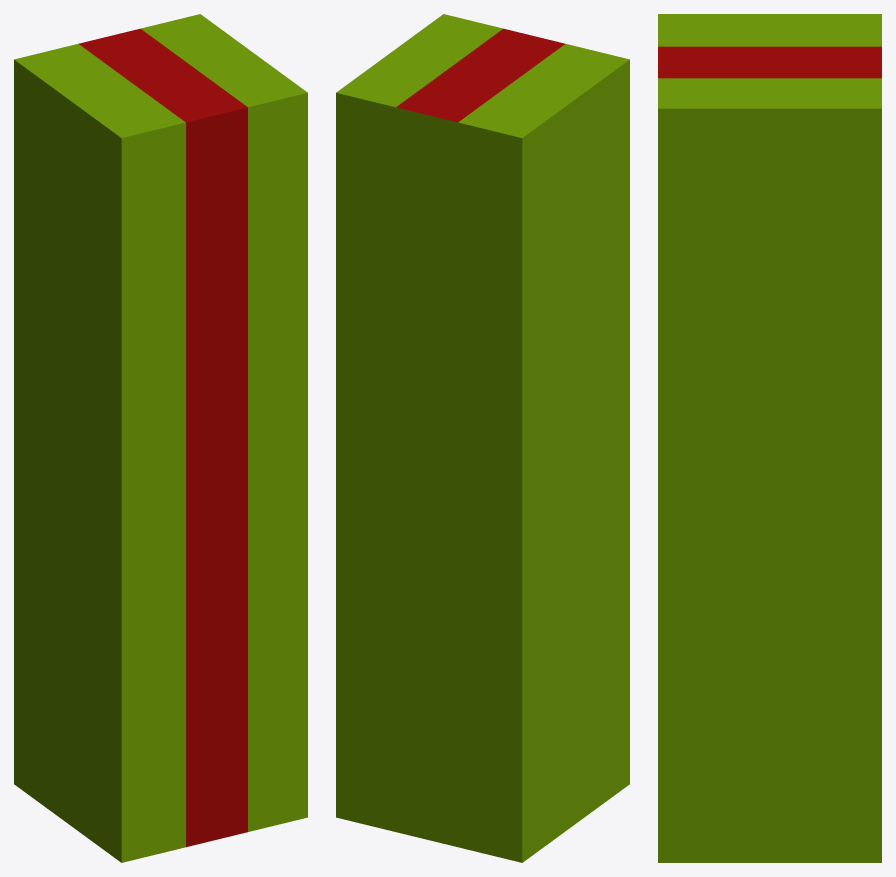
Rendered from Mur.obj.
3 views of the same model, side by side, from view 1: azimuth 30°, elevation 25°; view 2: azimuth 150°, elevation 25°; view 3: azimuth 270°, elevation 25° (orthographic). The views are drawn at different scales.
Parts seen in each view (by area): view 1: Cube_Cube.001; view 2: Cube_Cube.001; view 3: Cube_Cube.001.
Boxes of the visible parts, left/top/right/bottom form: Cube_Cube.001: left=14, top=14, right=307, bottom=862; Cube_Cube.001: left=336, top=14, right=629, bottom=862; Cube_Cube.001: left=658, top=14, right=881, bottom=862.
Size of the model in its own units: 20 by 74.32 by 20.
